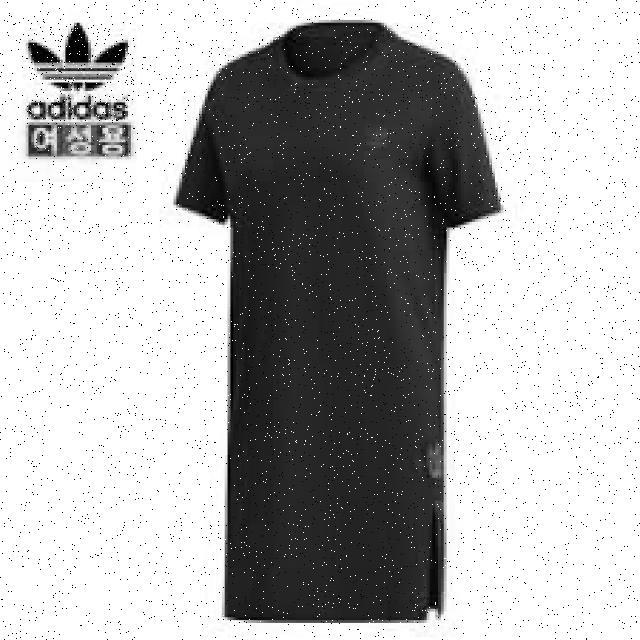Adidas: (26, 20, 134, 121)
